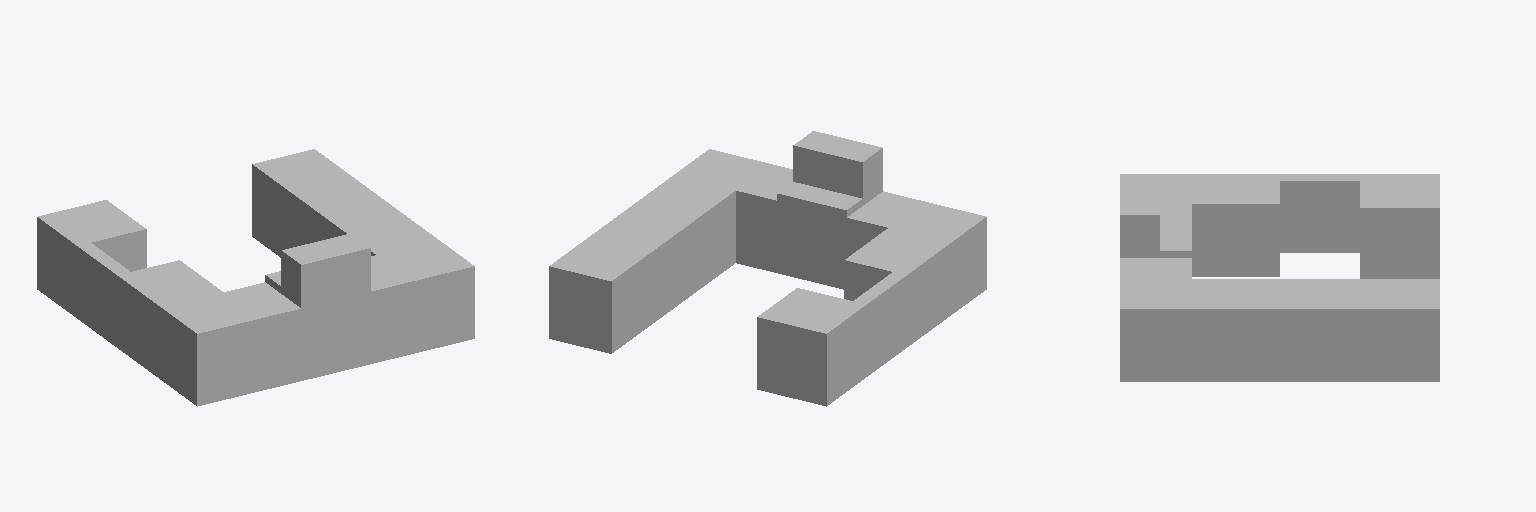
The model's file is Desk.obj.
3 renders of one model, left to right at view 1: azimuth 30°, elevation 25°; view 2: azimuth 150°, elevation 25°; view 3: azimuth 270°, elevation 25°, orthographic.
Size of the model in its own units: 40 by 16 by 40.